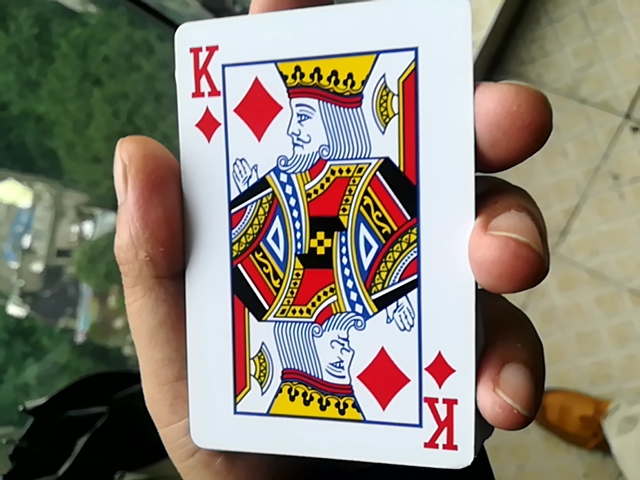fk k: (165, 0, 479, 462)
